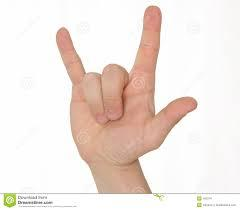Love-You: (51, 0, 200, 161)
